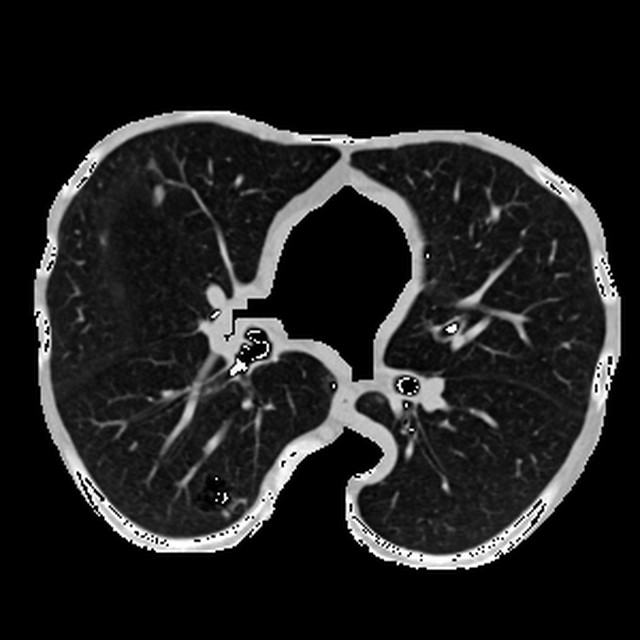PN: (151, 188, 164, 201)
